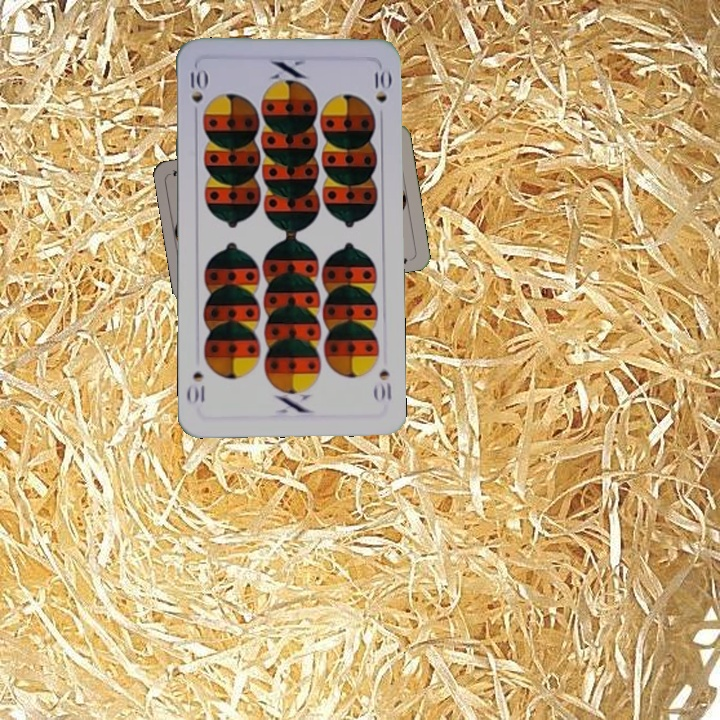S10: (370, 366, 395, 404), (186, 65, 208, 105)
